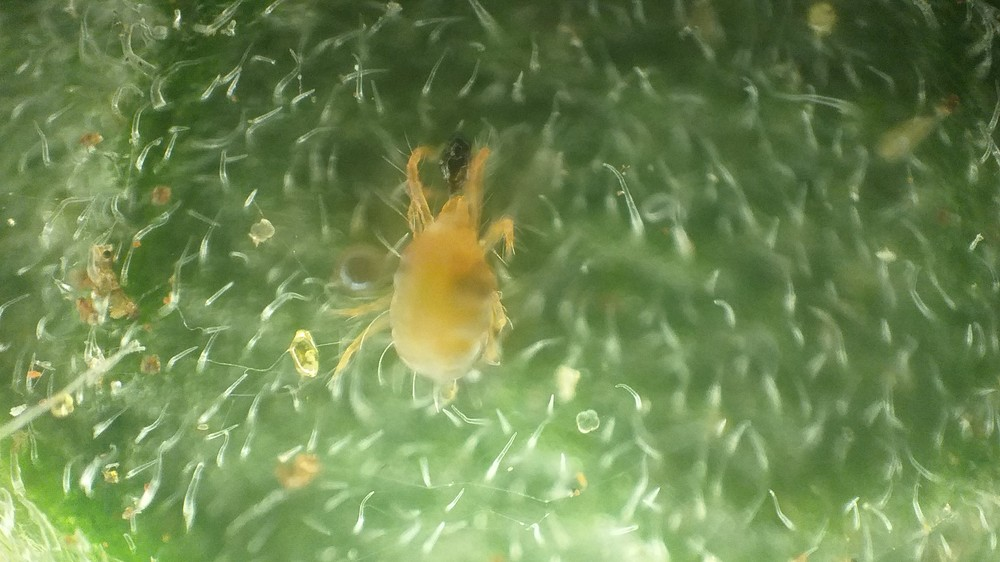Aracnido Rojo: (322, 132, 560, 418)
